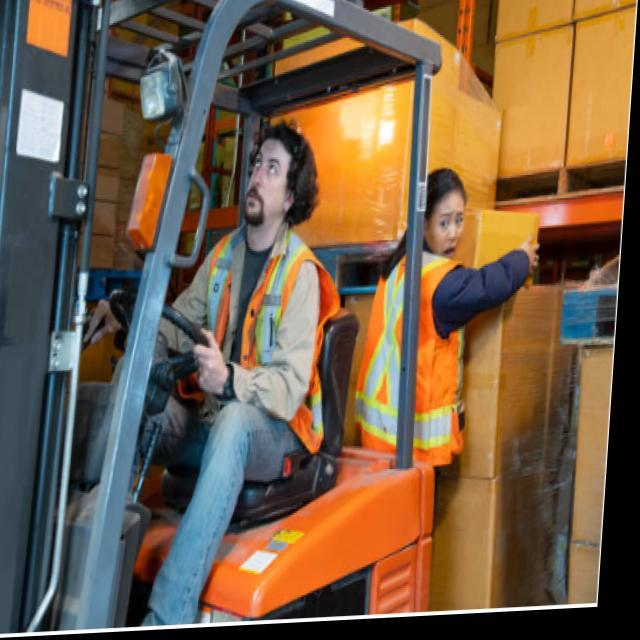vest: (190, 226, 343, 465), (354, 239, 483, 475)
